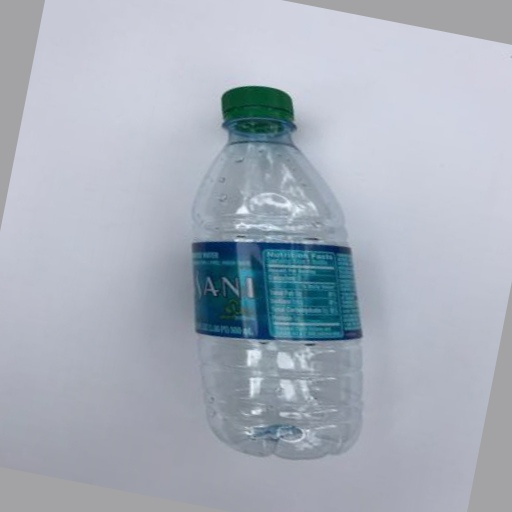Plastic_0: (190, 84, 361, 459)
